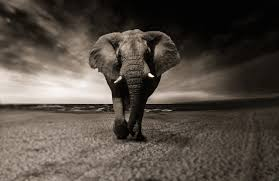Elephant: (78, 26, 187, 144)
